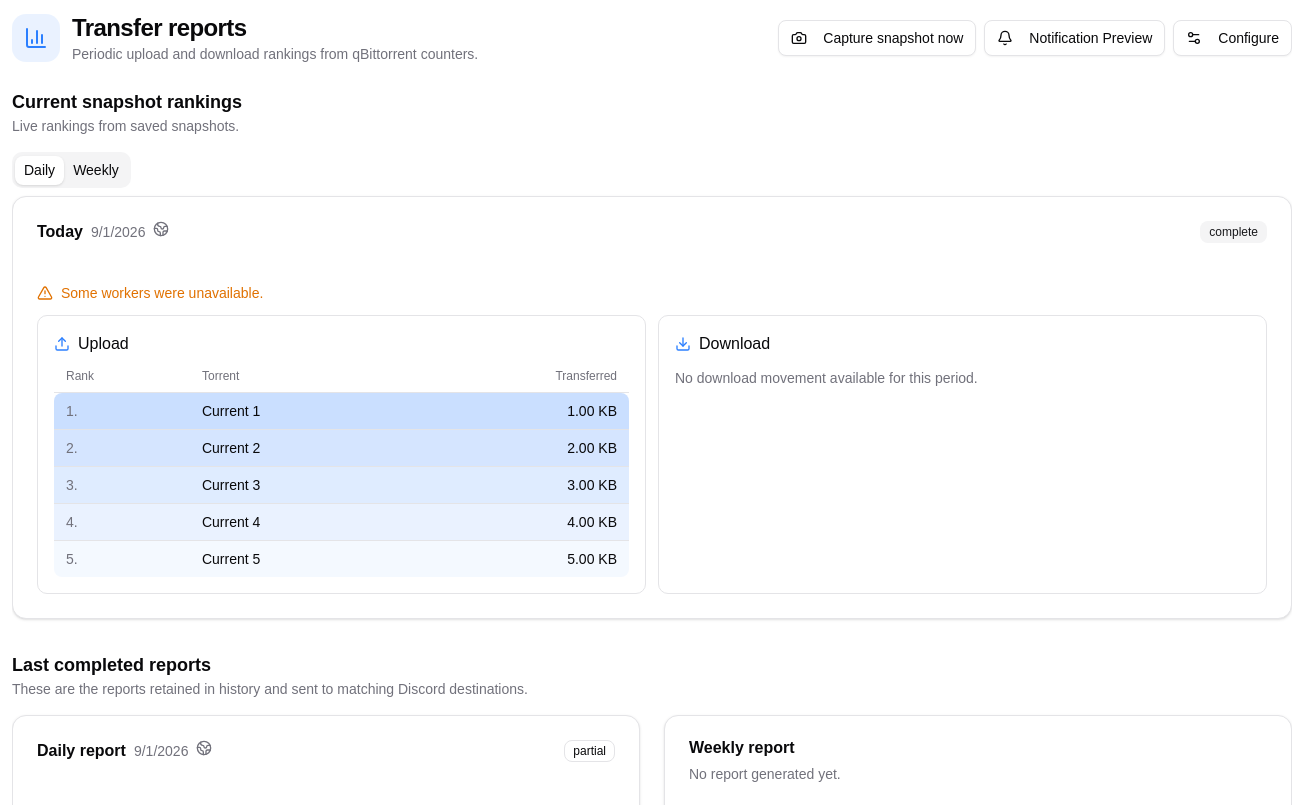
Test: ReportsPage › shows one date for daily cards and a range for weekly cards
Expected: the text "9/1/2026" next to "Today" is shown, left=91, top=224, right=145, bottom=240
Expected: the button named "Timezone: America/Sao_Paulo" in the row of "Today" is shown, left=153, top=221, right=169, bottom=237
Click the tab "Weekly" at x=96, y=170, box left=64, top=156, right=128, bottom=184
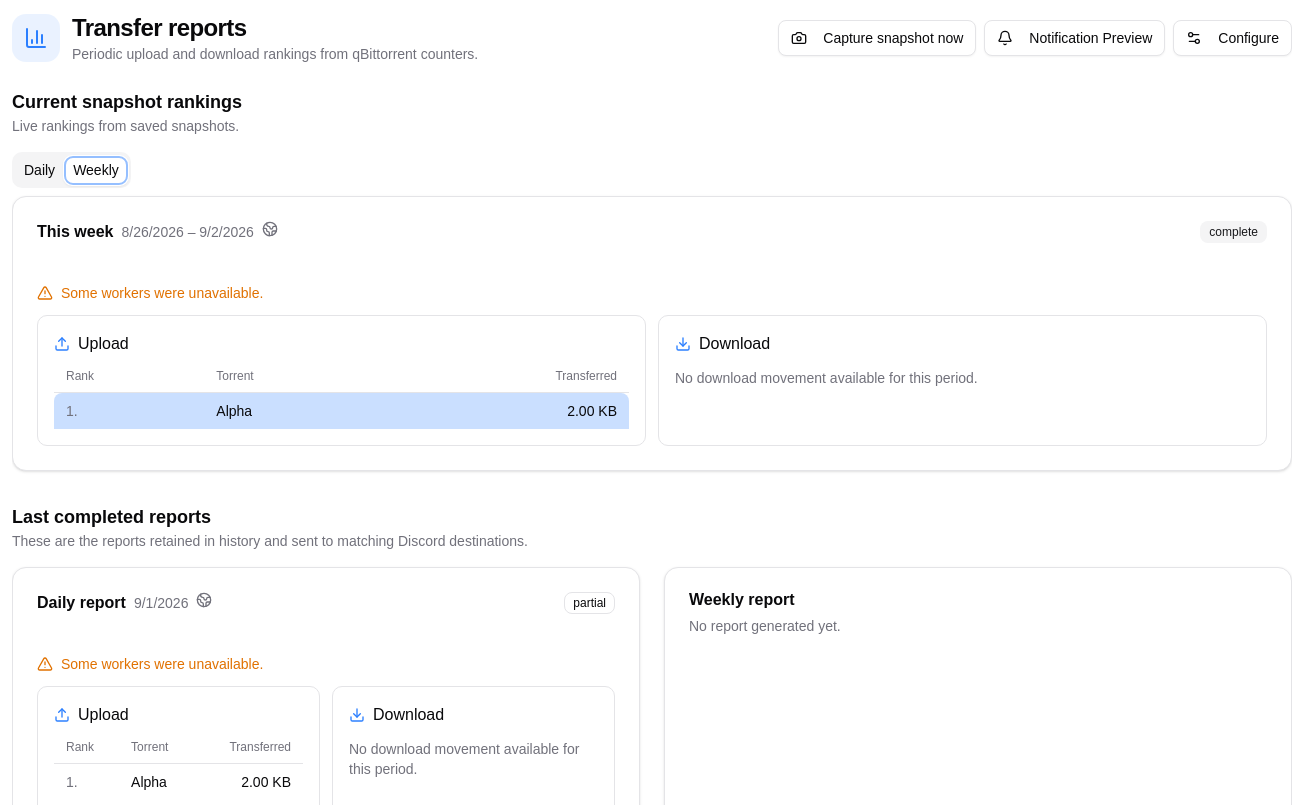
Now the text "8/26/2026 – 9/2/2026" is shown, box left=122, top=222, right=254, bottom=242
